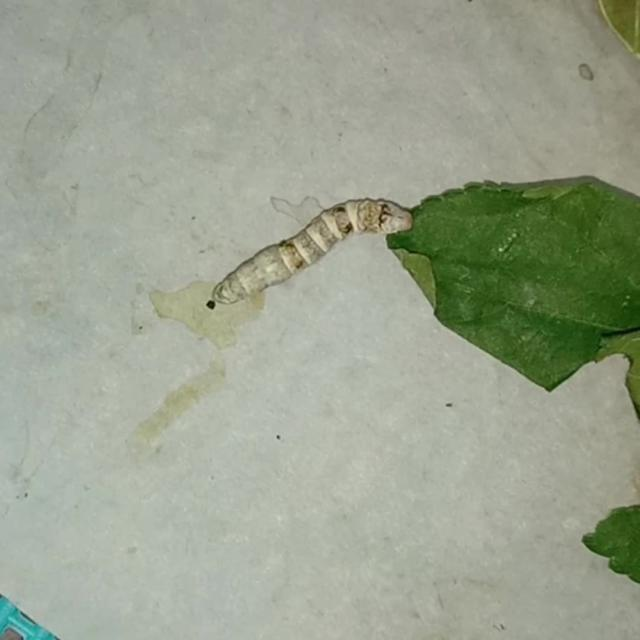Grasserie: (193, 172, 447, 348)
